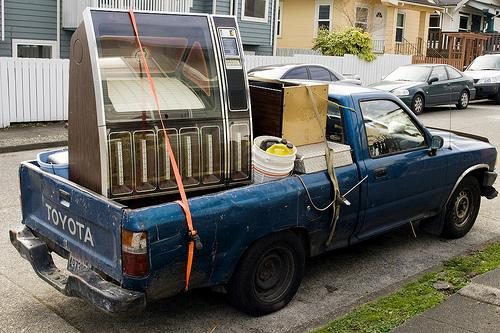truck: (9, 6, 499, 318)
